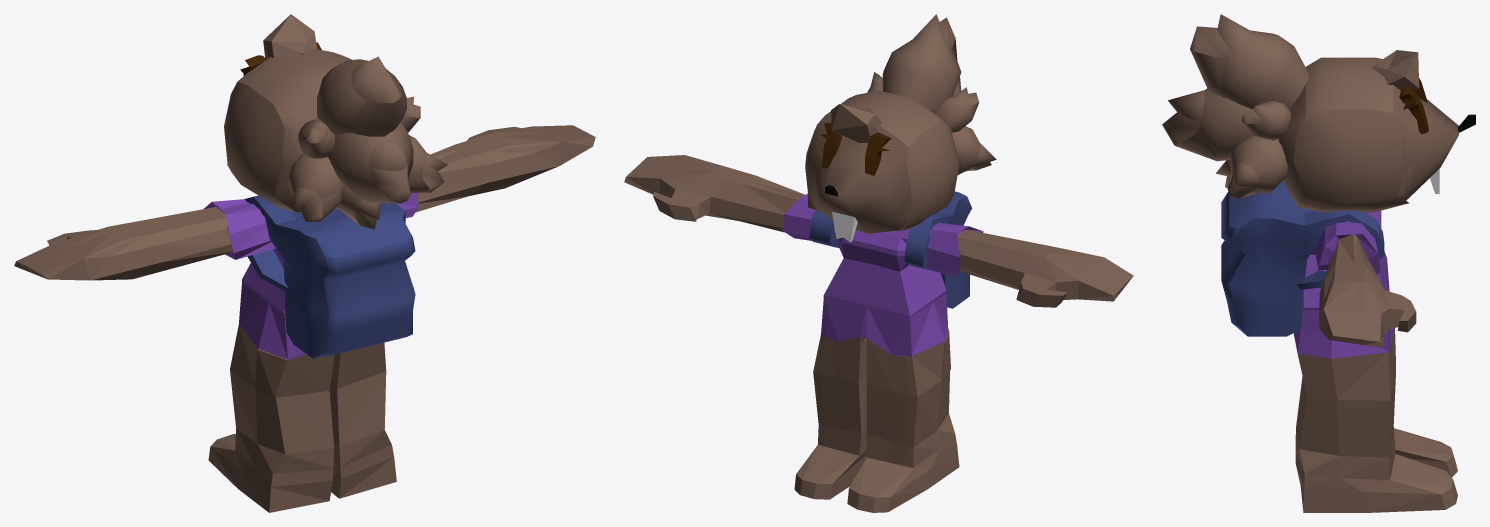
File: finished 3D character model.fbx
3 views of the same model, side by side, from view 1: azimuth 30°, elevation 25°; view 2: azimuth 150°, elevation 25°; view 3: azimuth 270°, elevation 25° (orthographic). The views are drawn at different scales.
Parts seen in each view (by area): view 1: pCube1, pCube6, pCube2, pCylinder3, pCylinder4, pCylinder6, pPlatonic2, pCylinder5, pCylinder9, pCylinder7; view 2: pCube1, pCube2, pCylinder3, pCube6, pPlatonic2, pCube4, pCylinder6, pCylinder9; view 3: pCube1, pCube2, pCube6, pCylinder3, pCylinder4, pCylinder5, pCylinder8, pPlatonic2, pCube4.
Boxes of the visible parts, <box> form: pCube1: <box>14,125,595,512</box>; pCube6: <box>244,195,415,358</box>; pCube2: <box>224,49,351,212</box>; pCylinder3: <box>317,56,406,136</box>; pCylinder4: <box>328,123,413,203</box>; pCylinder6: <box>288,154,345,221</box>; pPlatonic2: <box>263,14,317,59</box>; pCylinder5: <box>408,135,447,193</box>; pCylinder9: <box>298,119,334,158</box>; pCylinder7: <box>336,186,380,229</box>; pCube1: <box>624,155,1133,512</box>; pCube2: <box>805,90,958,233</box>; pCylinder3: <box>882,14,961,113</box>; pCube6: <box>809,191,971,308</box>; pPlatonic2: <box>831,104,881,142</box>; pCube4: <box>820,123,891,175</box>; pCylinder6: <box>952,126,996,174</box>; pCylinder9: <box>935,87,979,132</box>; pCube1: <box>1293,211,1457,512</box>; pCube2: <box>1278,57,1458,212</box>; pCube6: <box>1221,180,1384,336</box>; pCylinder3: <box>1190,14,1309,109</box>; pCylinder4: <box>1162,88,1253,161</box>; pCylinder5: <box>1227,135,1287,198</box>; pCylinder8: <box>1242,101,1290,140</box>; pPlatonic2: <box>1372,50,1419,90</box>; pCube4: <box>1399,78,1428,134</box>.
Bounding box in the file's own units: 5.59 × 4.52 × 2.72.
